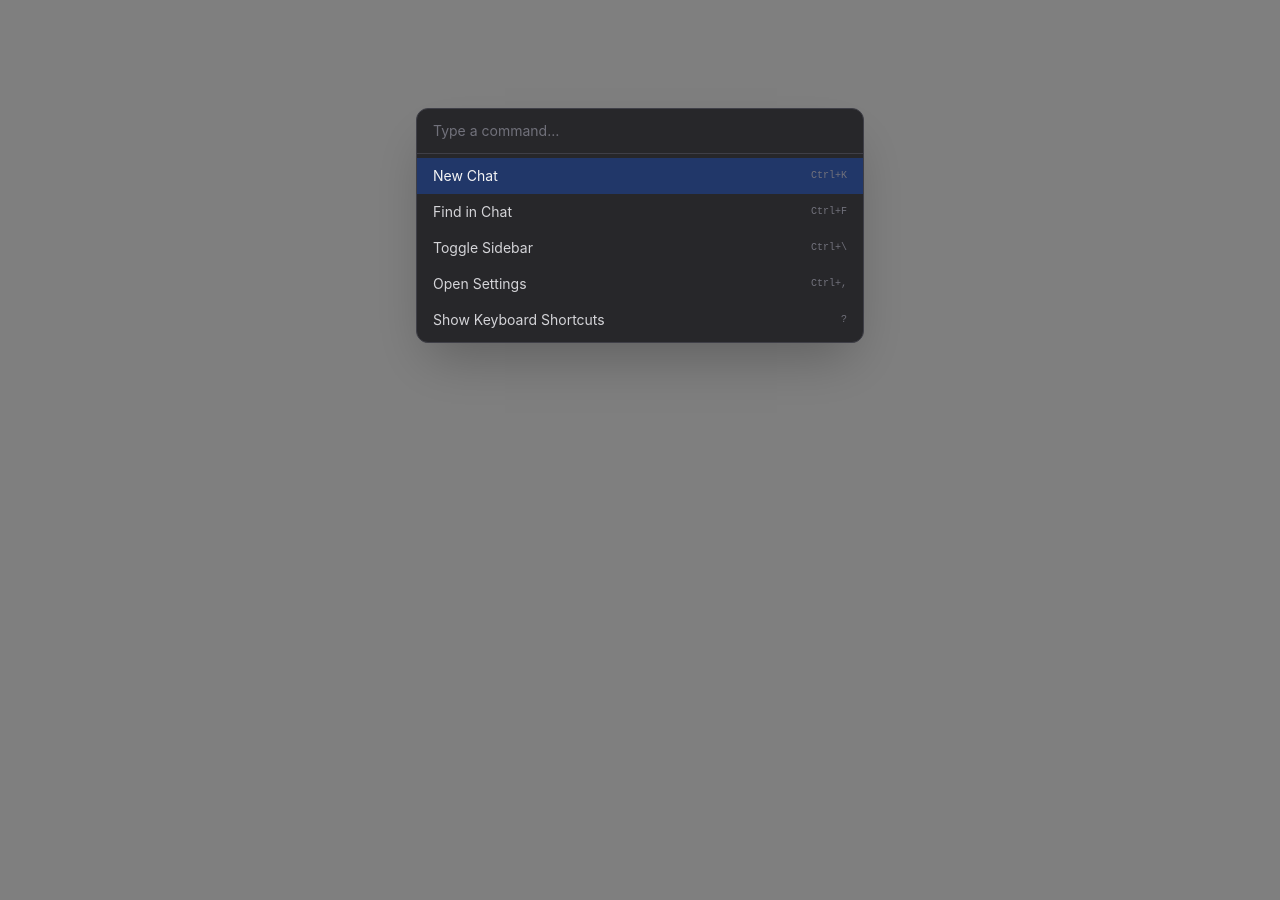
CommandPalette component (#251) › shows a no-matches message for an unmatched query
Step 1. Type "zzz" into the field named "Command palette search" → (640, 132), box [417, 109, 863, 154]
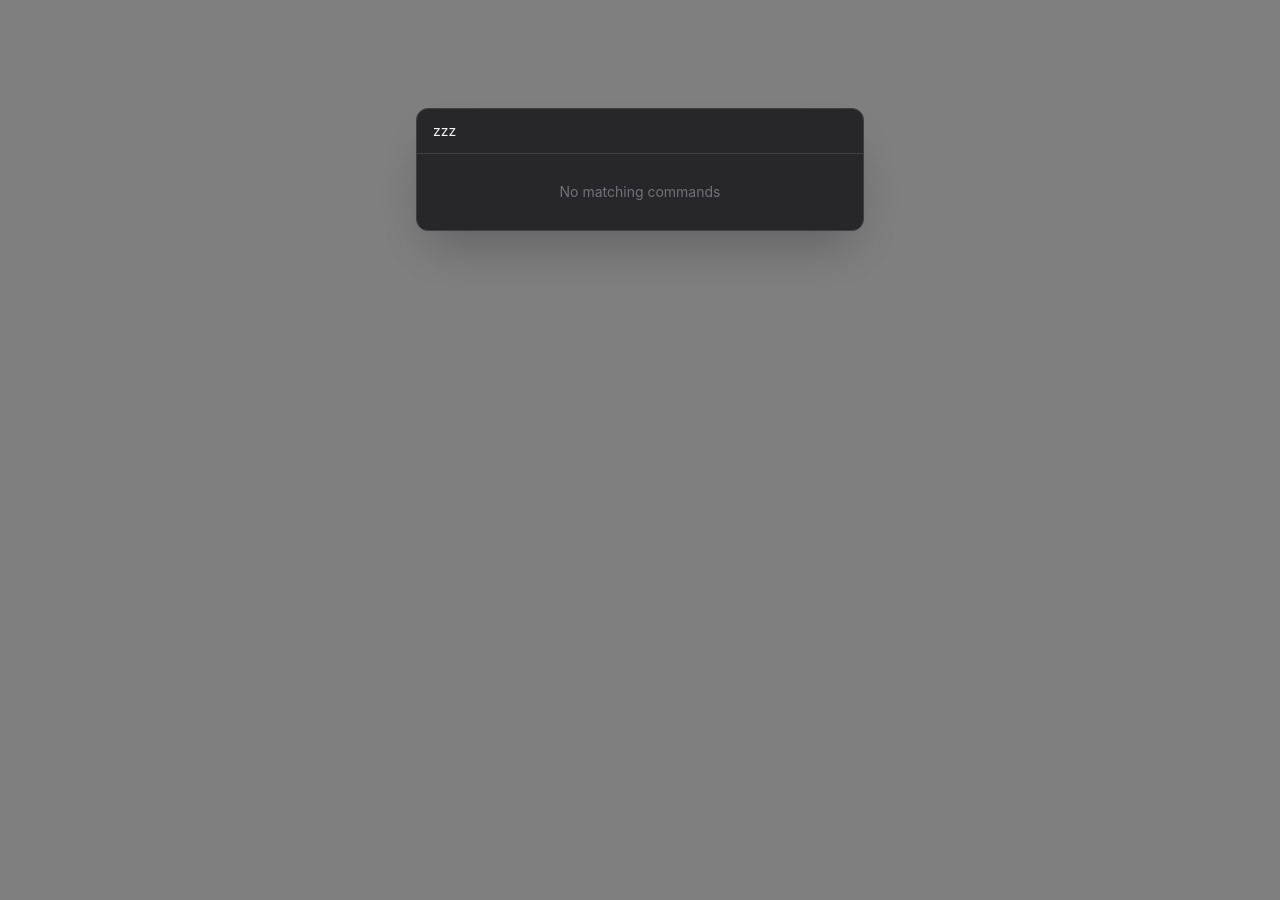
Expected: the text "No matching commands" is shown, [560, 183, 720, 200]
